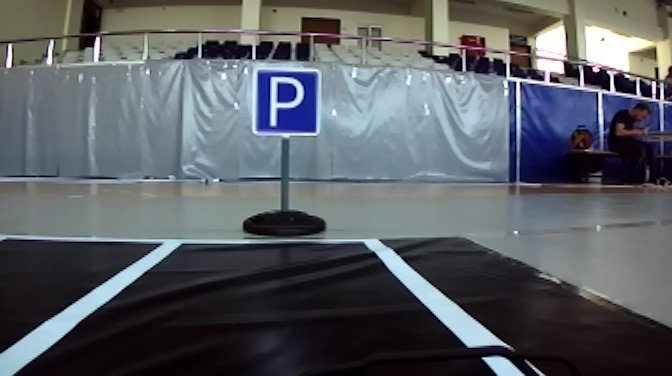park: (251, 64, 322, 137)
